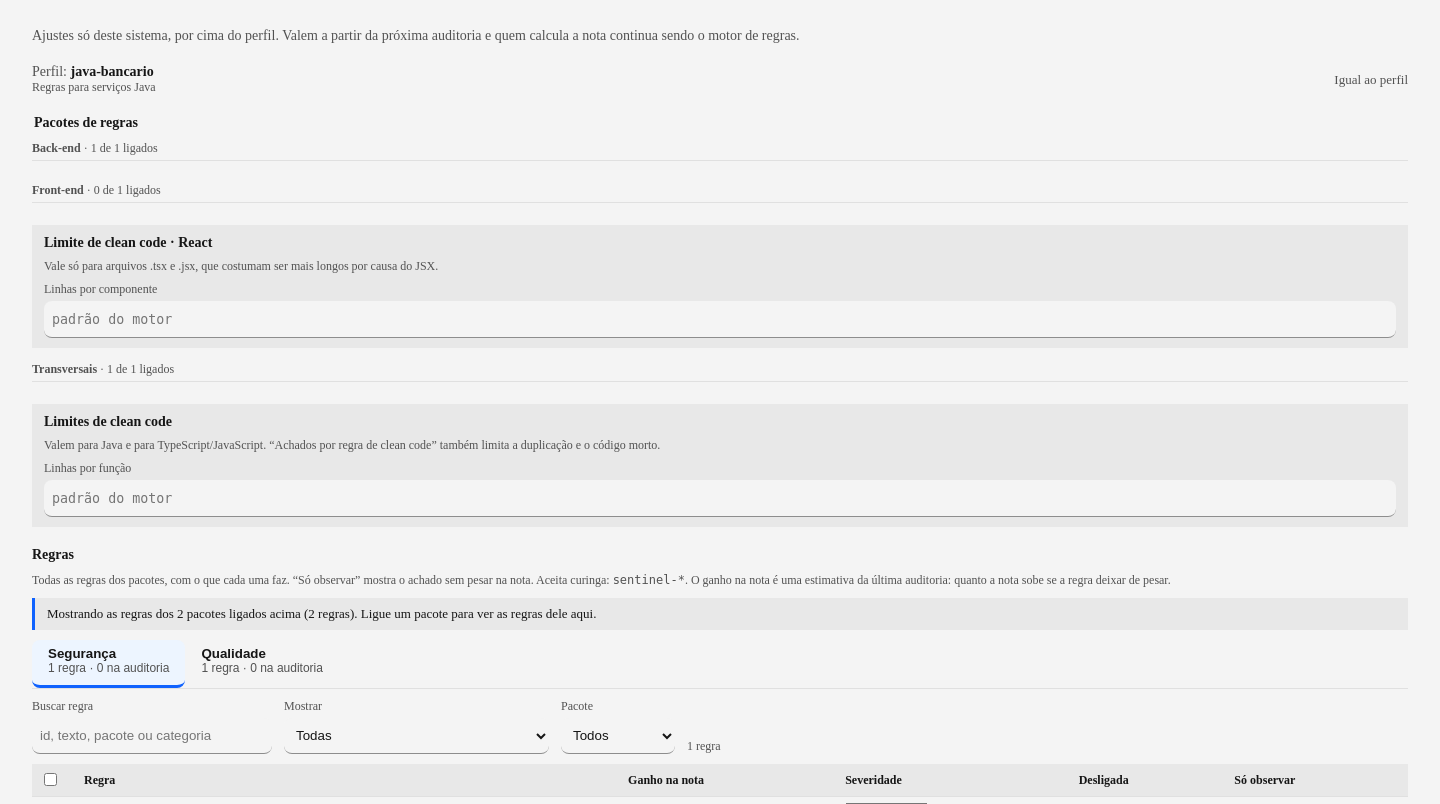
Test: EnginePanel › as abas separam as regras por família
Expected: the text "Leitura direta do ambiente." is not shown
Click the tab "Qualidade 1 regra · 0 na auditoria": click(262, 664) [186,640,339,688]
(page scrolled)
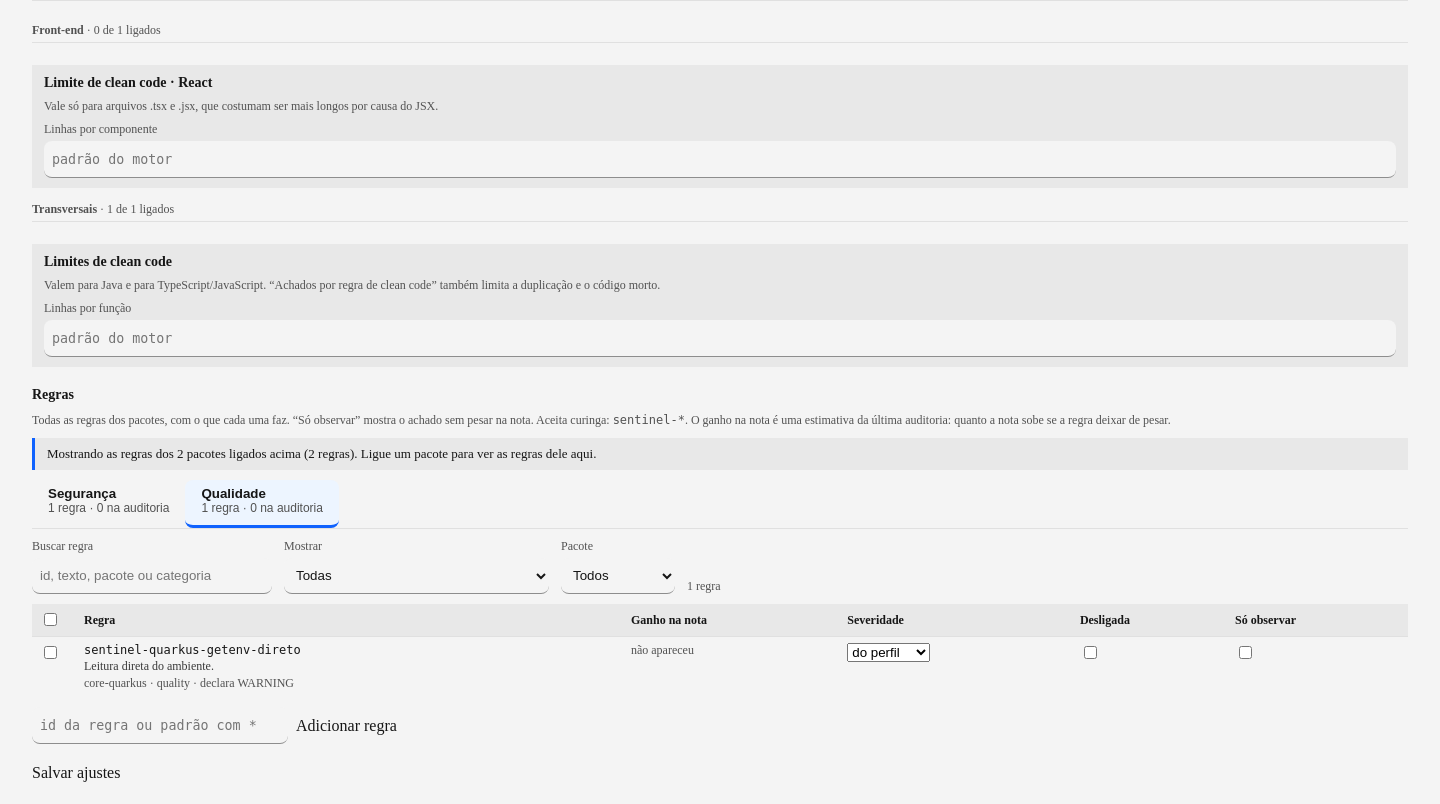
Expected: the text "Leitura direta do ambiente." is shown, [84,659,214,673]
